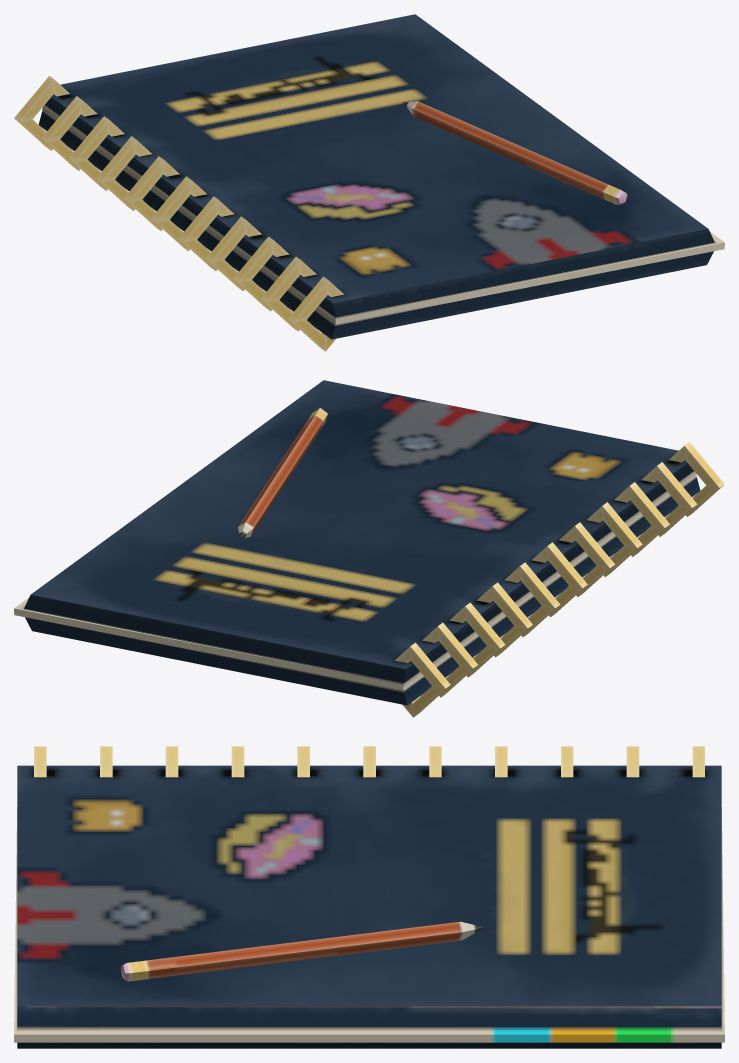
File: NoteBook.fbx
3 views of the same model, one above another, from view 1: azimuth 30°, elevation 25°; view 2: azimuth 150°, elevation 25°; view 3: azimuth 270°, elevation 25° (orthographic). The views are drawn at different scales.
Parts seen in each view (by area): view 1: SM_NoteBook; view 2: SM_NoteBook; view 3: SM_NoteBook.
Part boxes in pixels (box(x1,y1,x2,y2)): SM_NoteBook: box(14, 14, 724, 351); SM_NoteBook: box(14, 380, 724, 717); SM_NoteBook: box(14, 746, 724, 1048).
Bounding box in the file's own units: 16.36 × 2.61 × 19.81.
